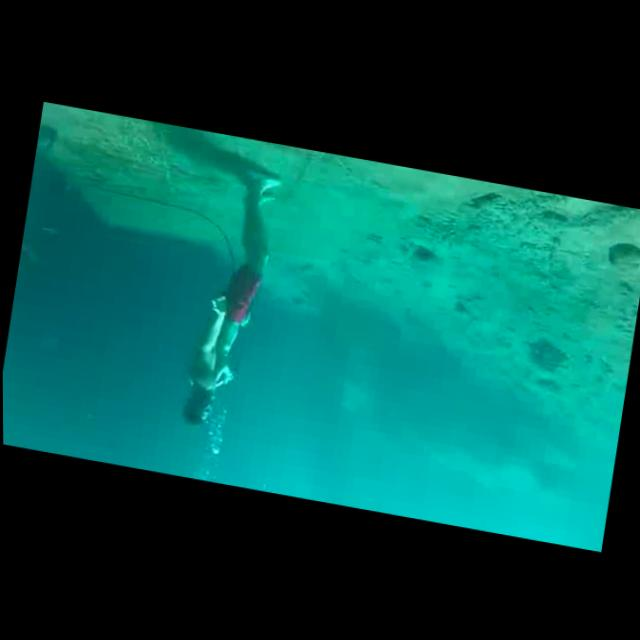human: (175, 161, 290, 443)
